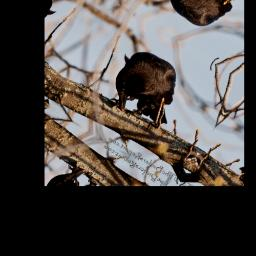Crow: (96, 39, 197, 135)
